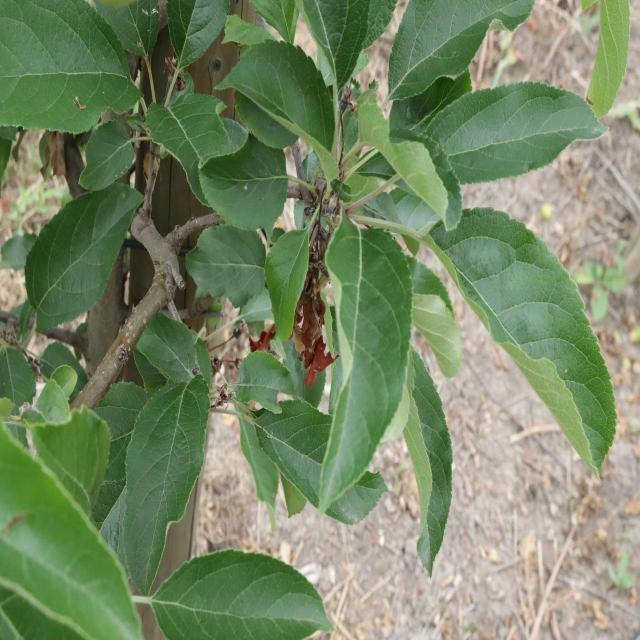-FireBlight-: (301, 229, 344, 383), (236, 329, 272, 359)
